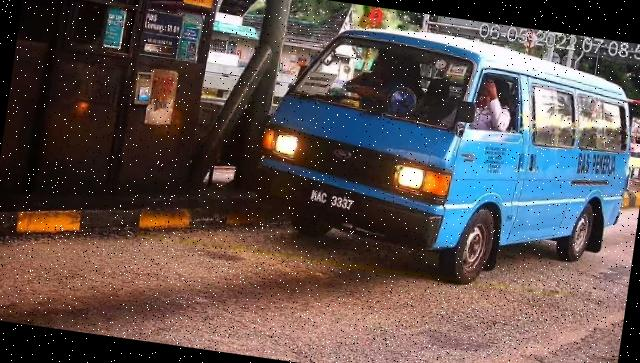License_Plate: (308, 186, 360, 218)
van: (242, 12, 640, 306)
